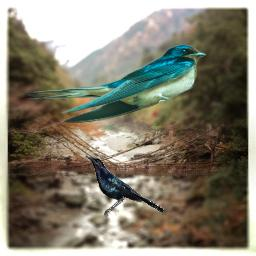Crow: (87, 157, 164, 217)
Swallow: (28, 44, 206, 124)
